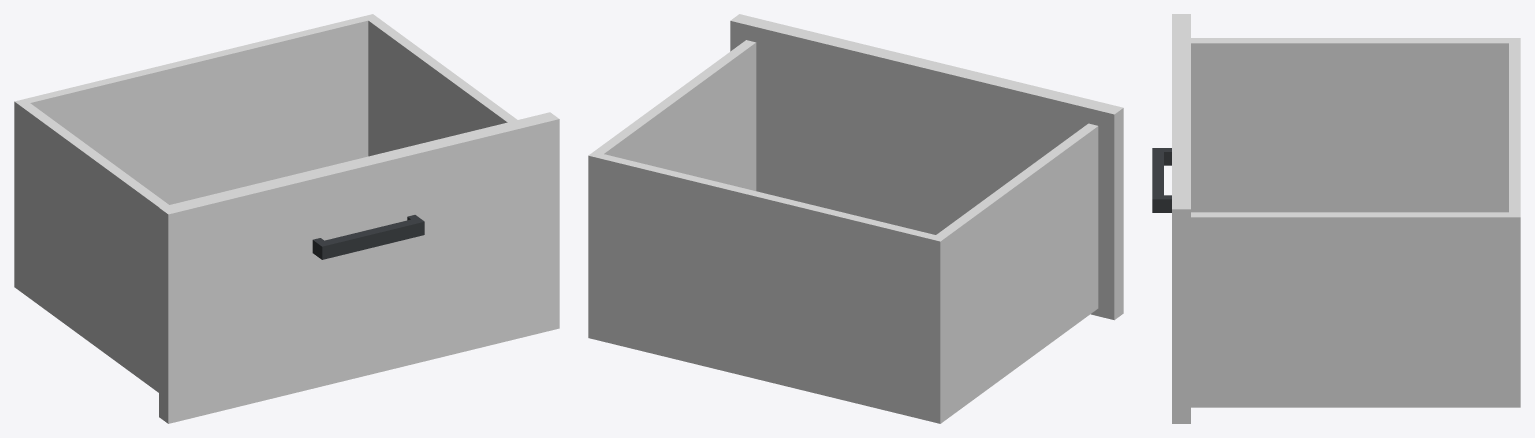
The model's file is BathroomDoor_C1_03.fbx.
The picture shows the model from 3 angles, left to right: view 1: azimuth 30°, elevation 25°; view 2: azimuth 150°, elevation 25°; view 3: azimuth 270°, elevation 25°; orthographic projection. The views are drawn at different scales.
Parts seen in each view (by area): view 1: BathroomDoor_C1_03; view 2: BathroomDoor_C1_03; view 3: BathroomDoor_C1_03.
Boxes of the visible parts, x1,y1,x2,y2 form: BathroomDoor_C1_03: (14, 14, 559, 423); BathroomDoor_C1_03: (588, 14, 1123, 423); BathroomDoor_C1_03: (1152, 14, 1520, 423).
Size of the model in its own units: 60 by 30.7 by 47.76.
